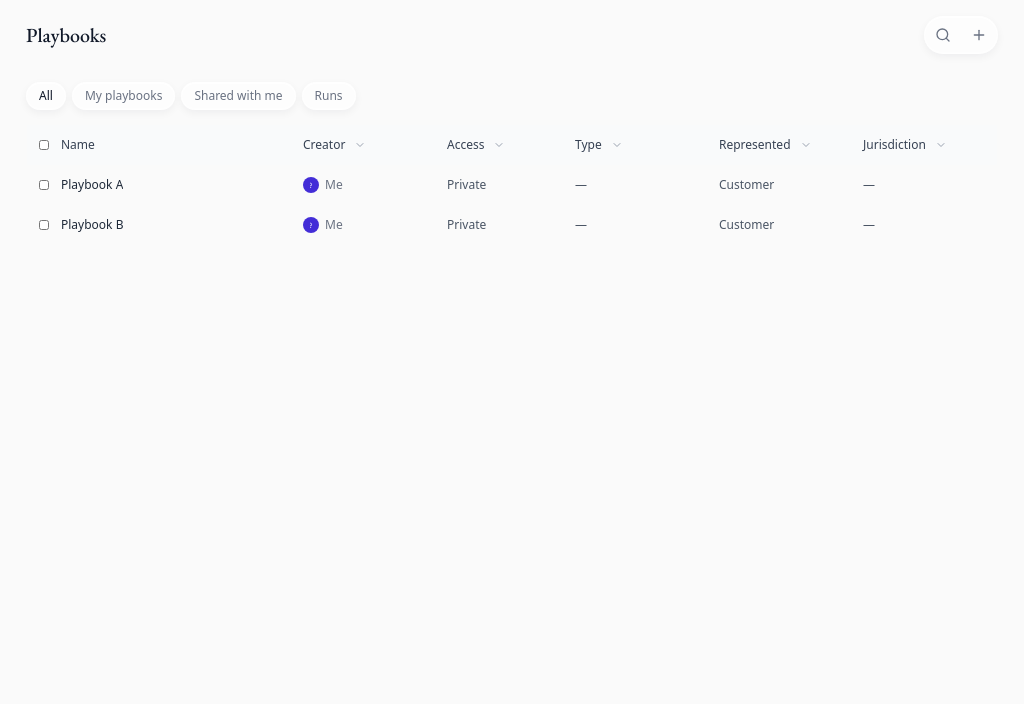
Test: playbooks page › gives each playbook its own page and opens it from its link
Click the link "Playbook A".
click(92, 184)  # box [61,176,123,193]
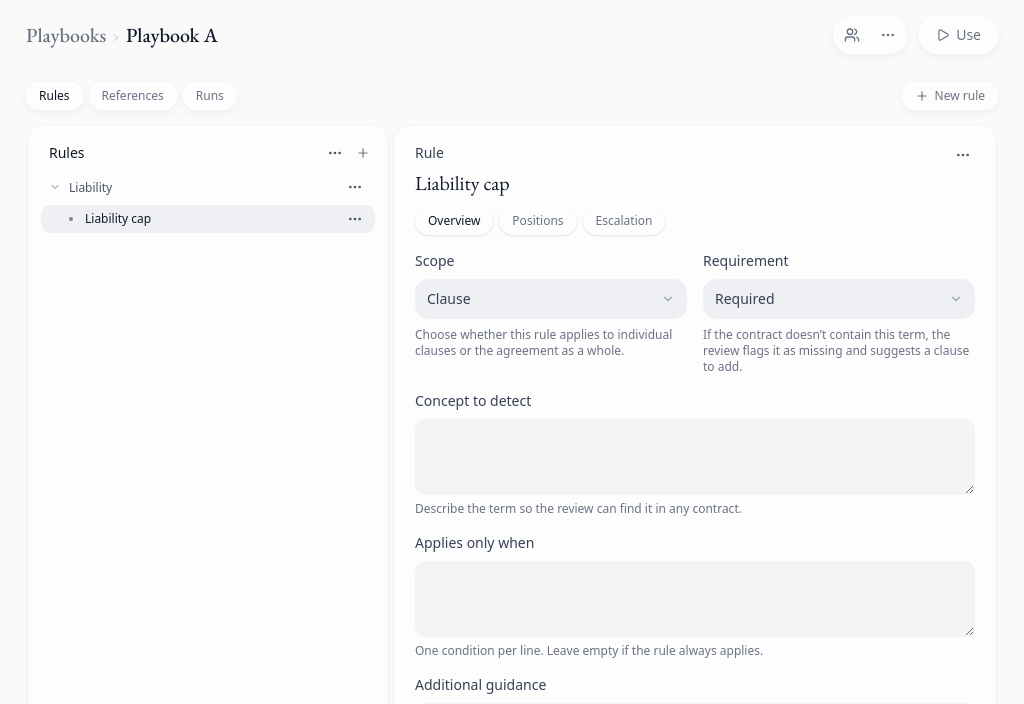
Now the text box labelled "Rule" holds "Liability cap", box [415,167,939,199]
